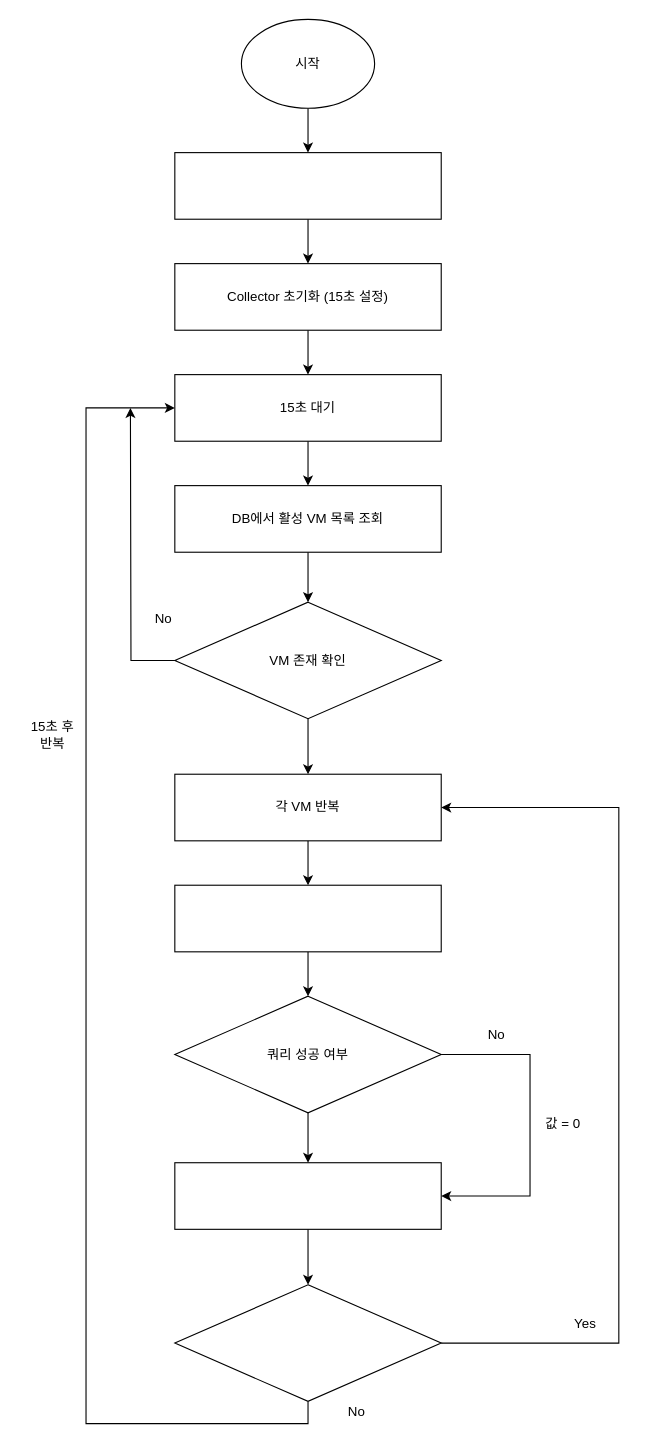
Image size: 647x1452. Some labels were removed from this diagram. The shapes that lost their labels are listed below. From the top down, each one's centre as x and y in pixels, then its label:
(307,185): 벡엔드 서버 시작
(307,918): Prometheus PromQL 쿼리 반복
(307,1195): metric_history 테이블에 저장
(307,1342): 다음 VM
